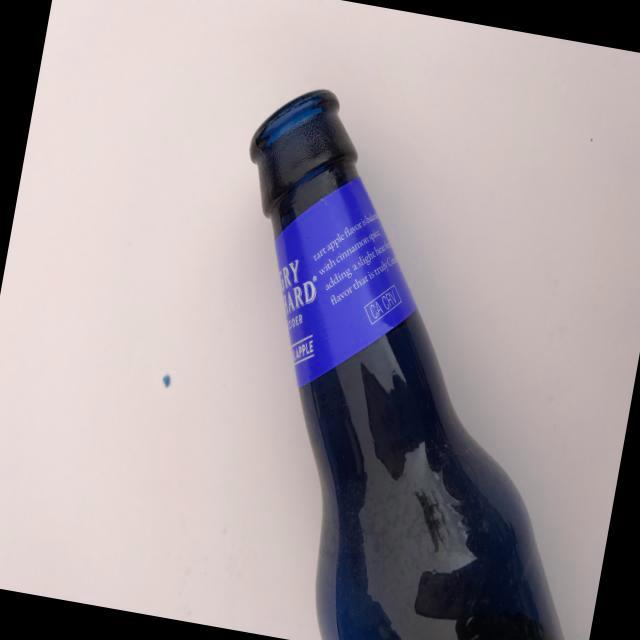glass: (162, 72, 640, 640)
